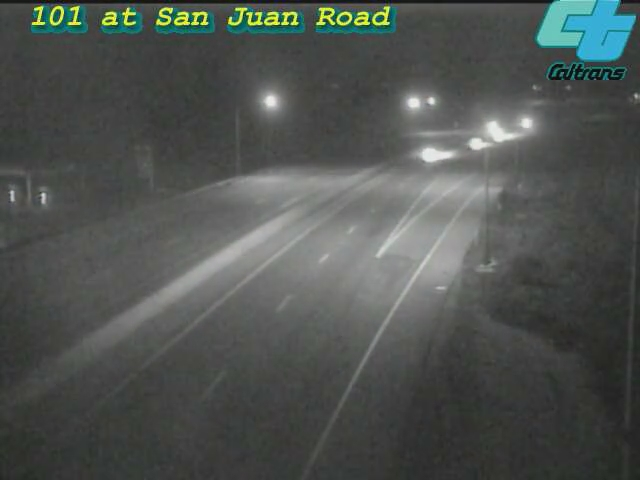vehicle: (462, 103, 512, 153), (500, 97, 550, 147), (474, 113, 524, 163), (451, 118, 501, 168), (406, 129, 456, 179)
